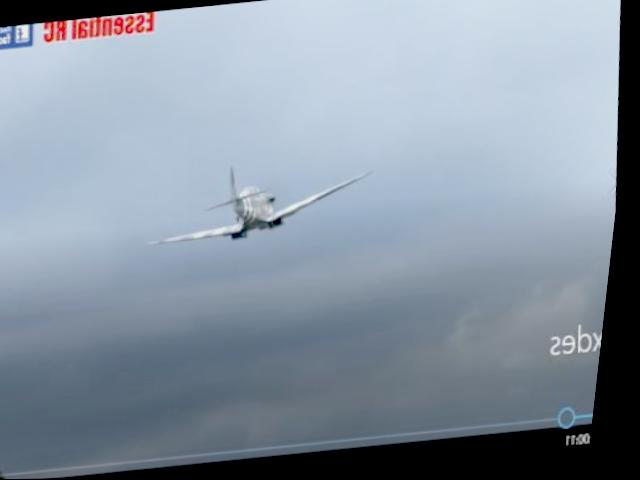uav: (143, 155, 382, 254)
